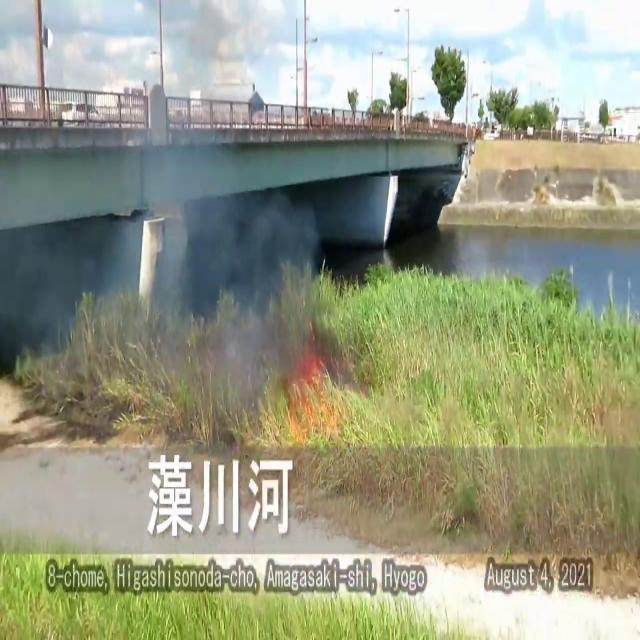Fire: (292, 338, 346, 440)
Smoke: (118, 74, 326, 413)
